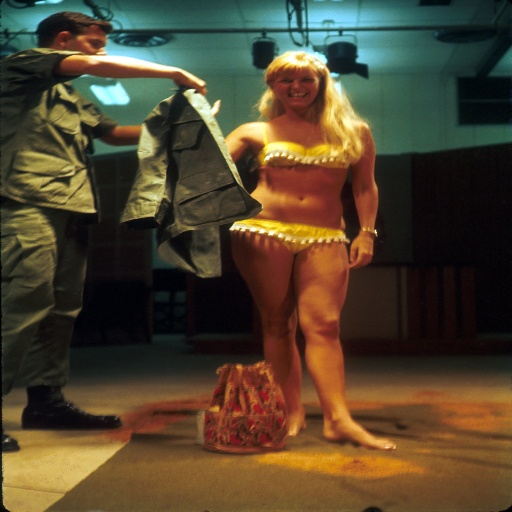hand: (154, 56, 210, 99), (345, 235, 377, 271), (210, 99, 222, 115)
